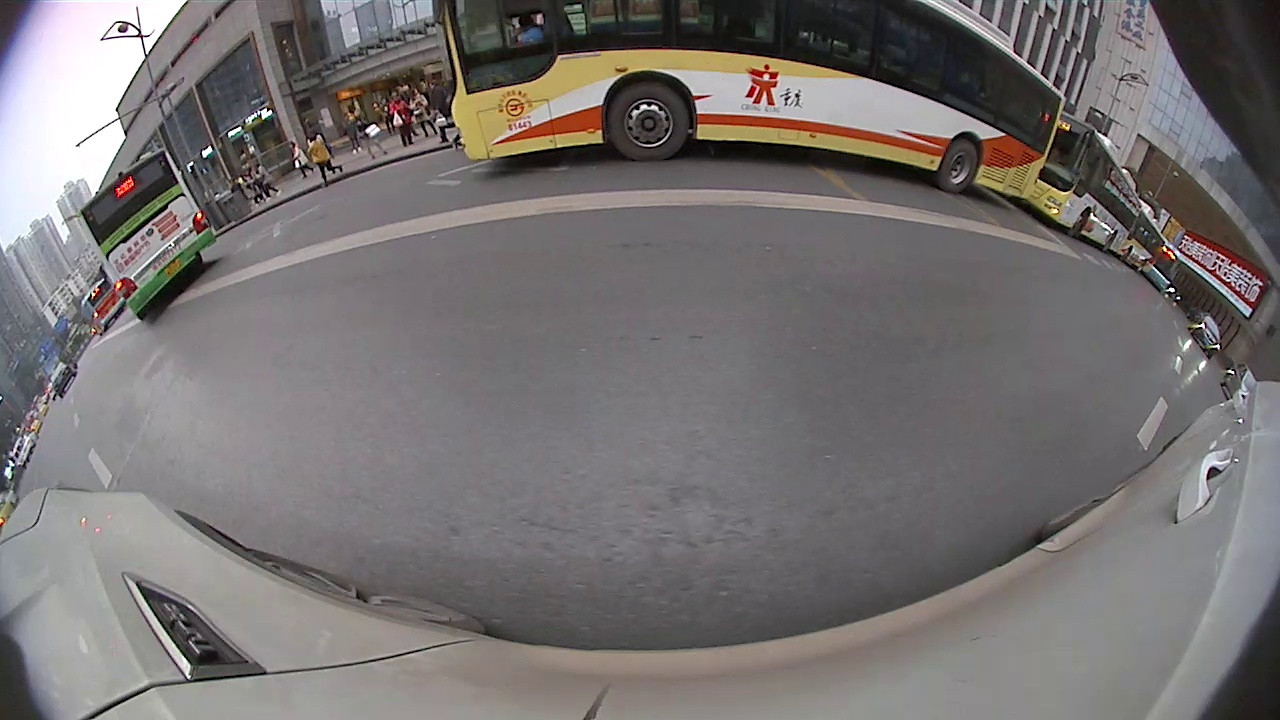bus: (432, 0, 1067, 208), (76, 142, 217, 320), (1021, 116, 1141, 260)
car: (1192, 310, 1223, 359)
front: (609, 82, 693, 160)
person: (306, 134, 340, 191)
rear: (941, 137, 981, 197)
